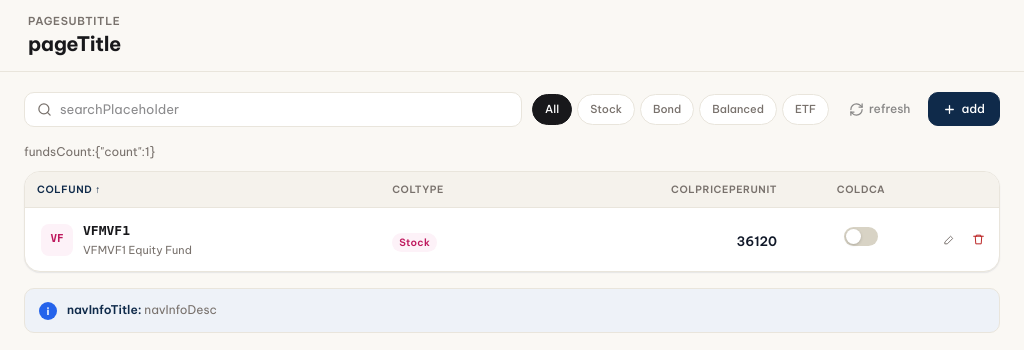
Test case: DesktopFundLibraryView — DCA inline controls › reveals the amount input and goal dropdown when DCA is toggled on
Click the button with test id "dca-toggle" at (861, 236), box [844,227,878,246]
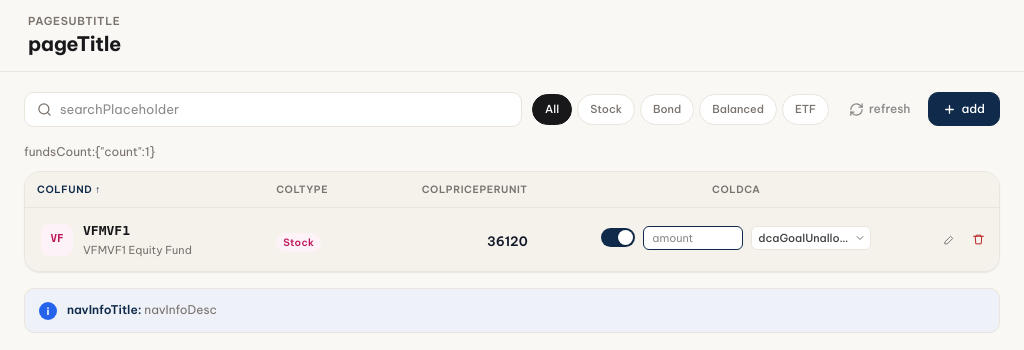
Expected: the field with test id "dca-amount-input-f1" is shown, [643,226,743,250]
Expected: the dropdown with test id "dca-goal-f1" shows "dcaGoalUnallocated", [751,226,871,250]
